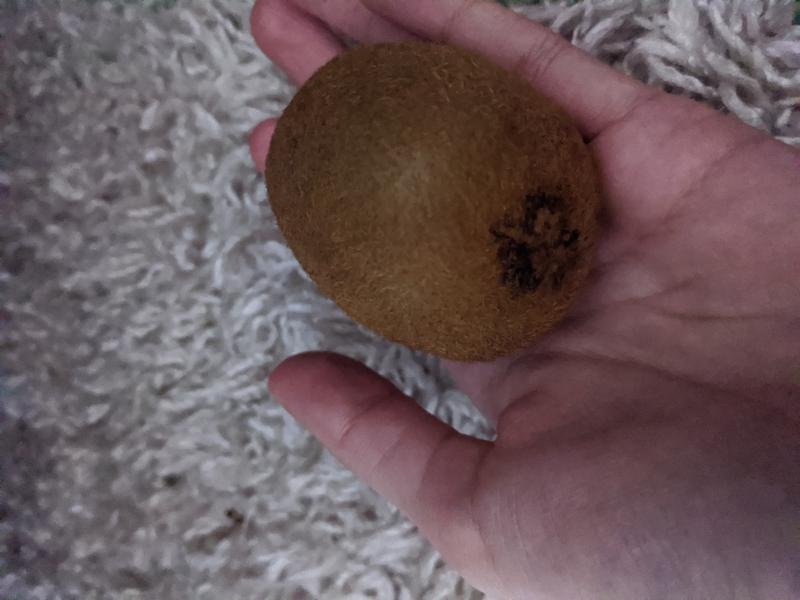kiwi: (264, 40, 603, 362)
